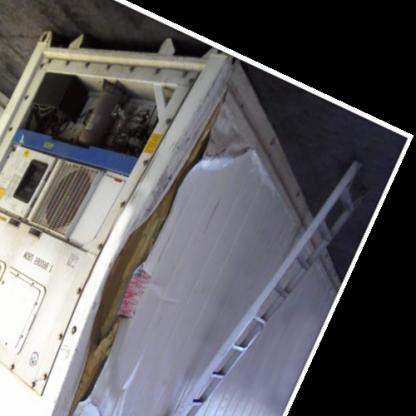Damage: (60, 103, 255, 405)
